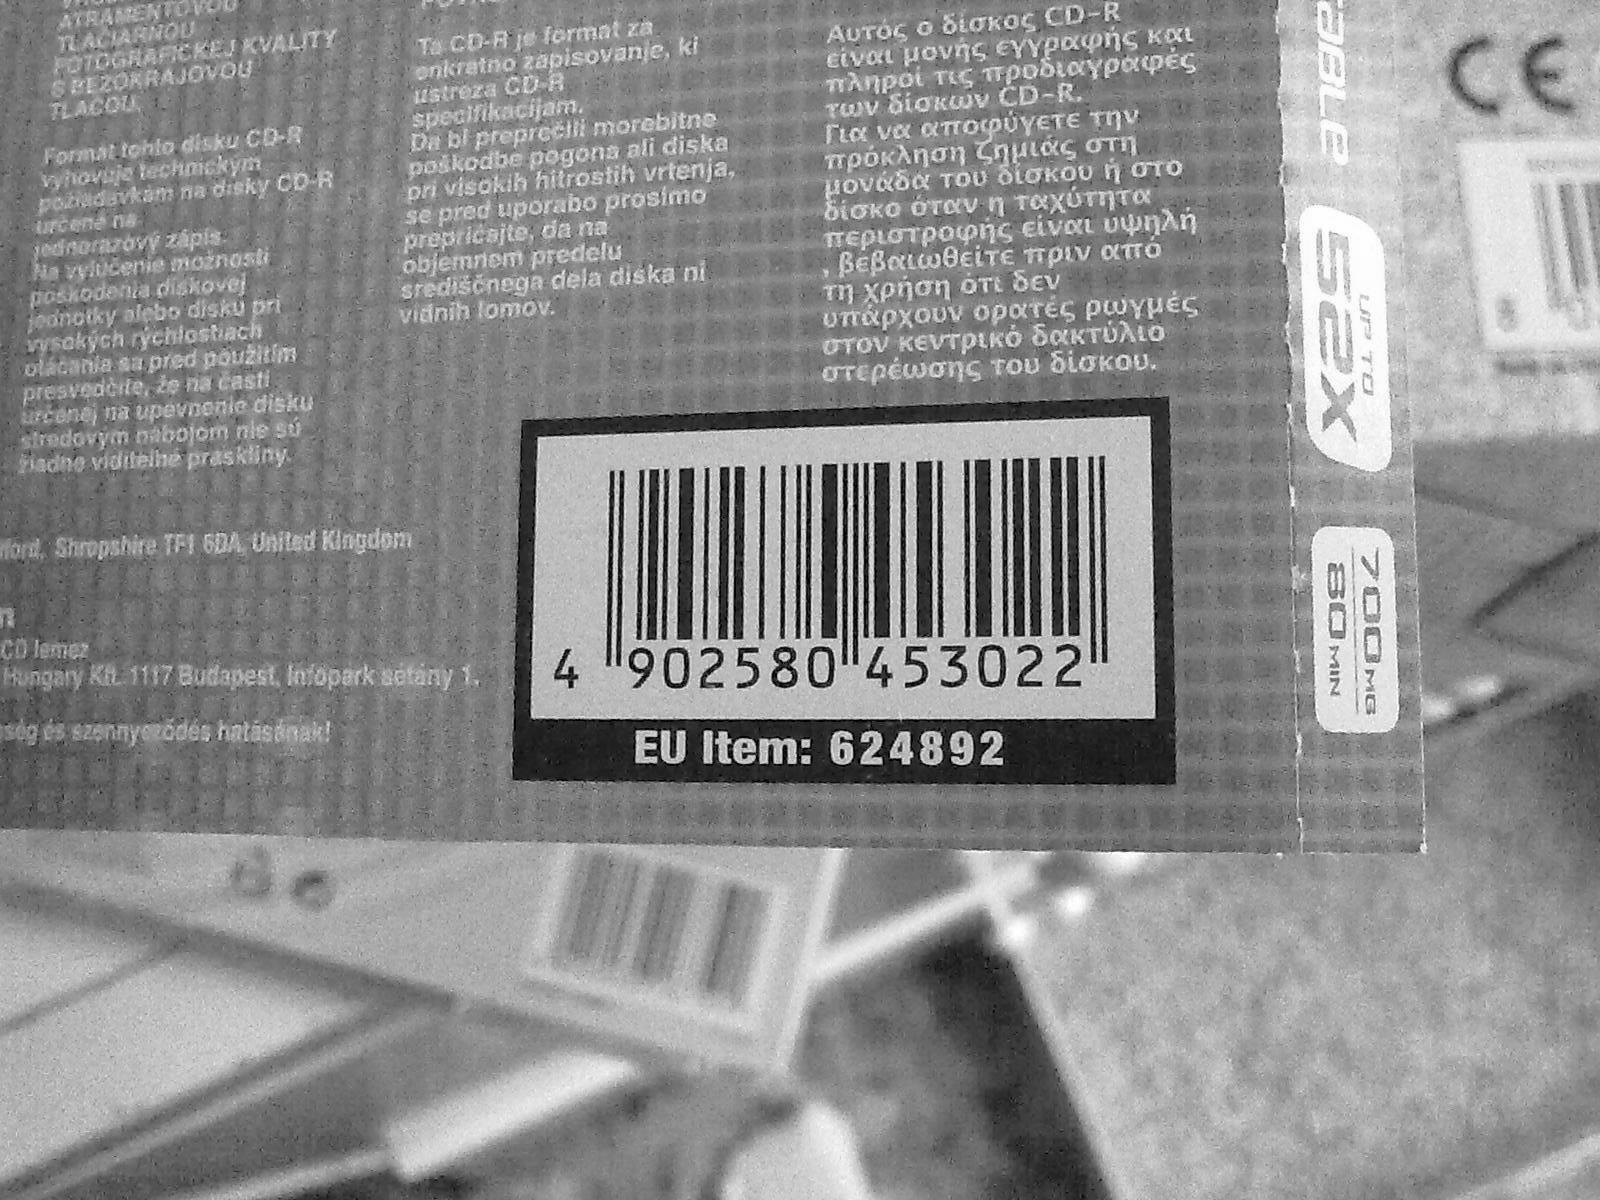Barcode: (513, 426, 1150, 717)
